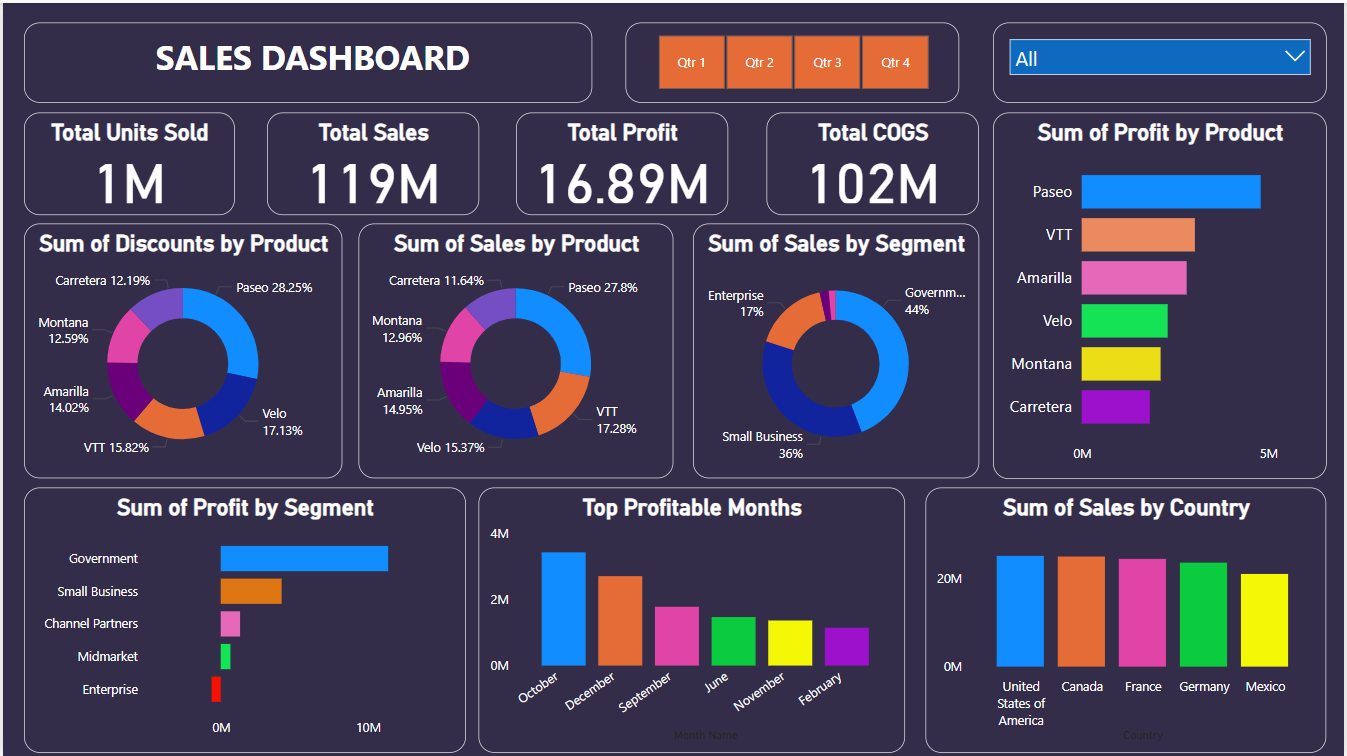

What the dashboard file says about the page in this screenshot:
{"tool":"powerbi","page":{"name":"Page 1","canvas":[1280,720],"ordinal":0},"visuals":[{"type":"card","title":"Total Sales","fields":{"Values":["Sum(Sheet1. Sales)"]},"box":[251.7,104.6,202.7,98.1],"z":0},{"type":"donutChart","fields":{"Category":["Sheet1.Segment"],"Y":["Sum(Sheet1. Sales)"]},"box":[658.8,210.9,273,243.6],"z":1000},{"type":"card","title":"Total Units Sold","fields":{"Values":["Sum(Sheet1.Units Sold)"]},"box":[19.6,104.6,201.1,98.1],"z":2000},{"type":"slicer","title":"Country","fields":{"Values":["Sheet1.Product"]},"box":[944.9,18,318.8,76.8],"z":3000},{"type":"columnChart","title":"Top Profitable  Months","fields":{"Category":["Sheet1.Month Name"],"Y":["Sum(Sheet1.Profit)"]},"box":[454.5,462.6,407,253.4],"z":4000},{"type":"clusteredBarChart","fields":{"Category":["Sheet1.Product"],"Y":["Sum(Sheet1.Profit)"]},"box":[944.9,104.6,318.8,349.8],"z":5000},{"type":"card","title":"Total Profit","fields":{"Values":["Sum(Sheet1.Profit)"]},"box":[490.4,104.6,202.7,98.1],"z":6000},{"type":"slicer","title":"Sold Date","fields":{"Values":["Sheet1.Date.Variation.Date Hierarchy.Quarter"]},"box":[595,18,318.8,76.8],"z":7000},{"type":"textbox","box":[19.6,18,542.7,76.8],"z":8000},{"type":"donutChart","fields":{"Category":["Sheet1.Product"],"Y":["Sum(Sheet1.Discounts)"]},"box":[19.6,210.9,304.1,243.6],"z":9000},{"type":"columnChart","fields":{"Category":["Sheet1.Country"],"Y":["Sum(Sheet1. Sales)"]},"box":[881.1,462.6,382.5,253.4],"z":10000},{"type":"clusteredBarChart","fields":{"Y":["Sum(Sheet1.Profit)"],"Category":["Sheet1.Segment"]},"box":[19.6,462.6,421.8,253.4],"z":11000},{"type":"donutChart","fields":{"Category":["Sheet1.Product"],"Y":["Sum(Sheet1. Sales)"]},"box":[340,210.9,300.8,243.6],"z":12000},{"type":"card","title":"Total COGS","fields":{"Values":["Sum(Sheet1.COGS)"]},"box":[729.1,104.6,202.7,98.1],"z":13000}]}

Visuals, with their boxes in screenshot pixels (x1, y1, x2, y2), scaled from the page's 1280x720 canvas onto the 1347x756 screenshot:
"Total Sales" card: (x1=265, y1=110, x2=478, y2=213)
donutChart - Sheet1.Segment x Sum(Sheet1. Sales): (x1=693, y1=221, x2=981, y2=477)
"Total Units Sold" card: (x1=21, y1=110, x2=232, y2=213)
"Country" slicer: (x1=994, y1=19, x2=1330, y2=100)
"Top Profitable  Months" columnChart: (x1=478, y1=486, x2=907, y2=752)
clusteredBarChart - Sheet1.Product x Sum(Sheet1.Profit): (x1=994, y1=110, x2=1330, y2=477)
"Total Profit" card: (x1=516, y1=110, x2=729, y2=213)
"Sold Date" slicer: (x1=626, y1=19, x2=962, y2=100)
textbox: (x1=21, y1=19, x2=592, y2=100)
donutChart - Sheet1.Product x Sum(Sheet1.Discounts): (x1=21, y1=221, x2=341, y2=477)
columnChart - Sheet1.Country x Sum(Sheet1. Sales): (x1=927, y1=486, x2=1330, y2=752)
clusteredBarChart - Sum(Sheet1.Profit) x Sheet1.Segment: (x1=21, y1=486, x2=465, y2=752)
donutChart - Sheet1.Product x Sum(Sheet1. Sales): (x1=358, y1=221, x2=674, y2=477)
"Total COGS" card: (x1=767, y1=110, x2=981, y2=213)
